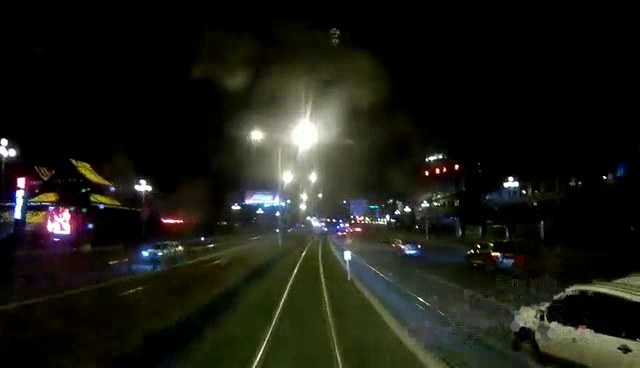car: (511, 280, 640, 368), (465, 240, 517, 269), (137, 237, 195, 262), (388, 235, 426, 256)
